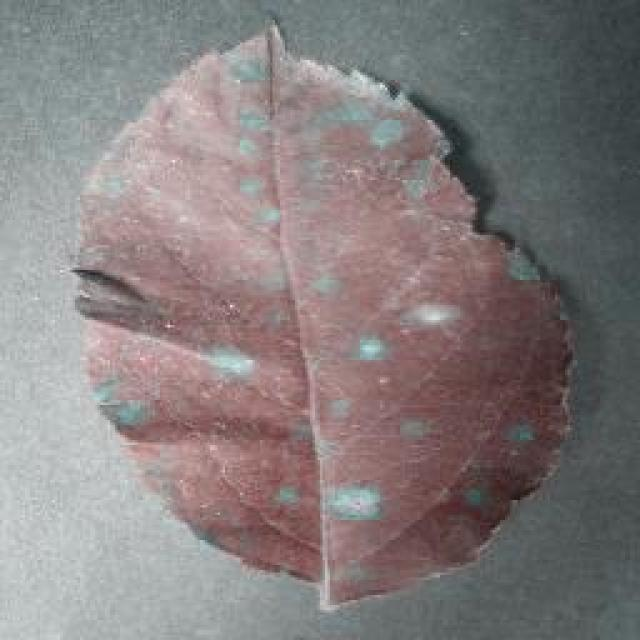apple healthy: (70, 18, 578, 610)
